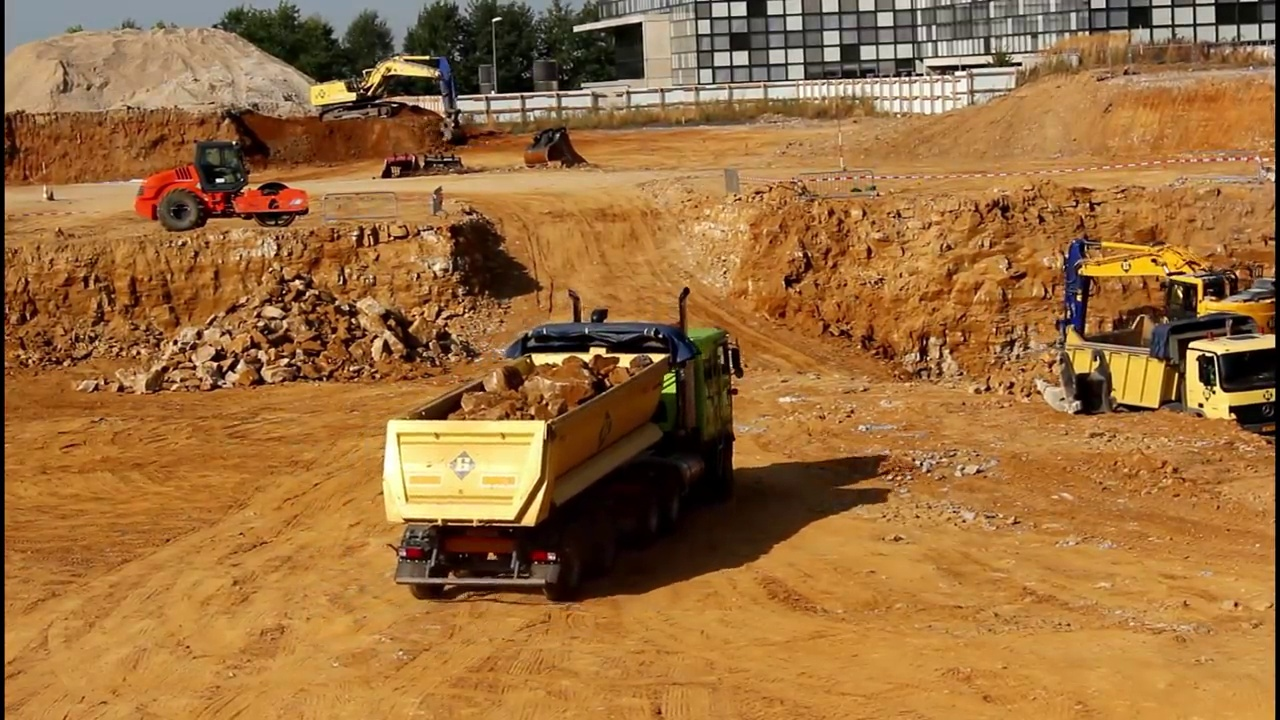compactor: (134, 140, 312, 231)
excavator: (1051, 233, 1280, 391), (309, 50, 469, 150)
truck: (375, 282, 751, 607), (1064, 310, 1280, 445)
